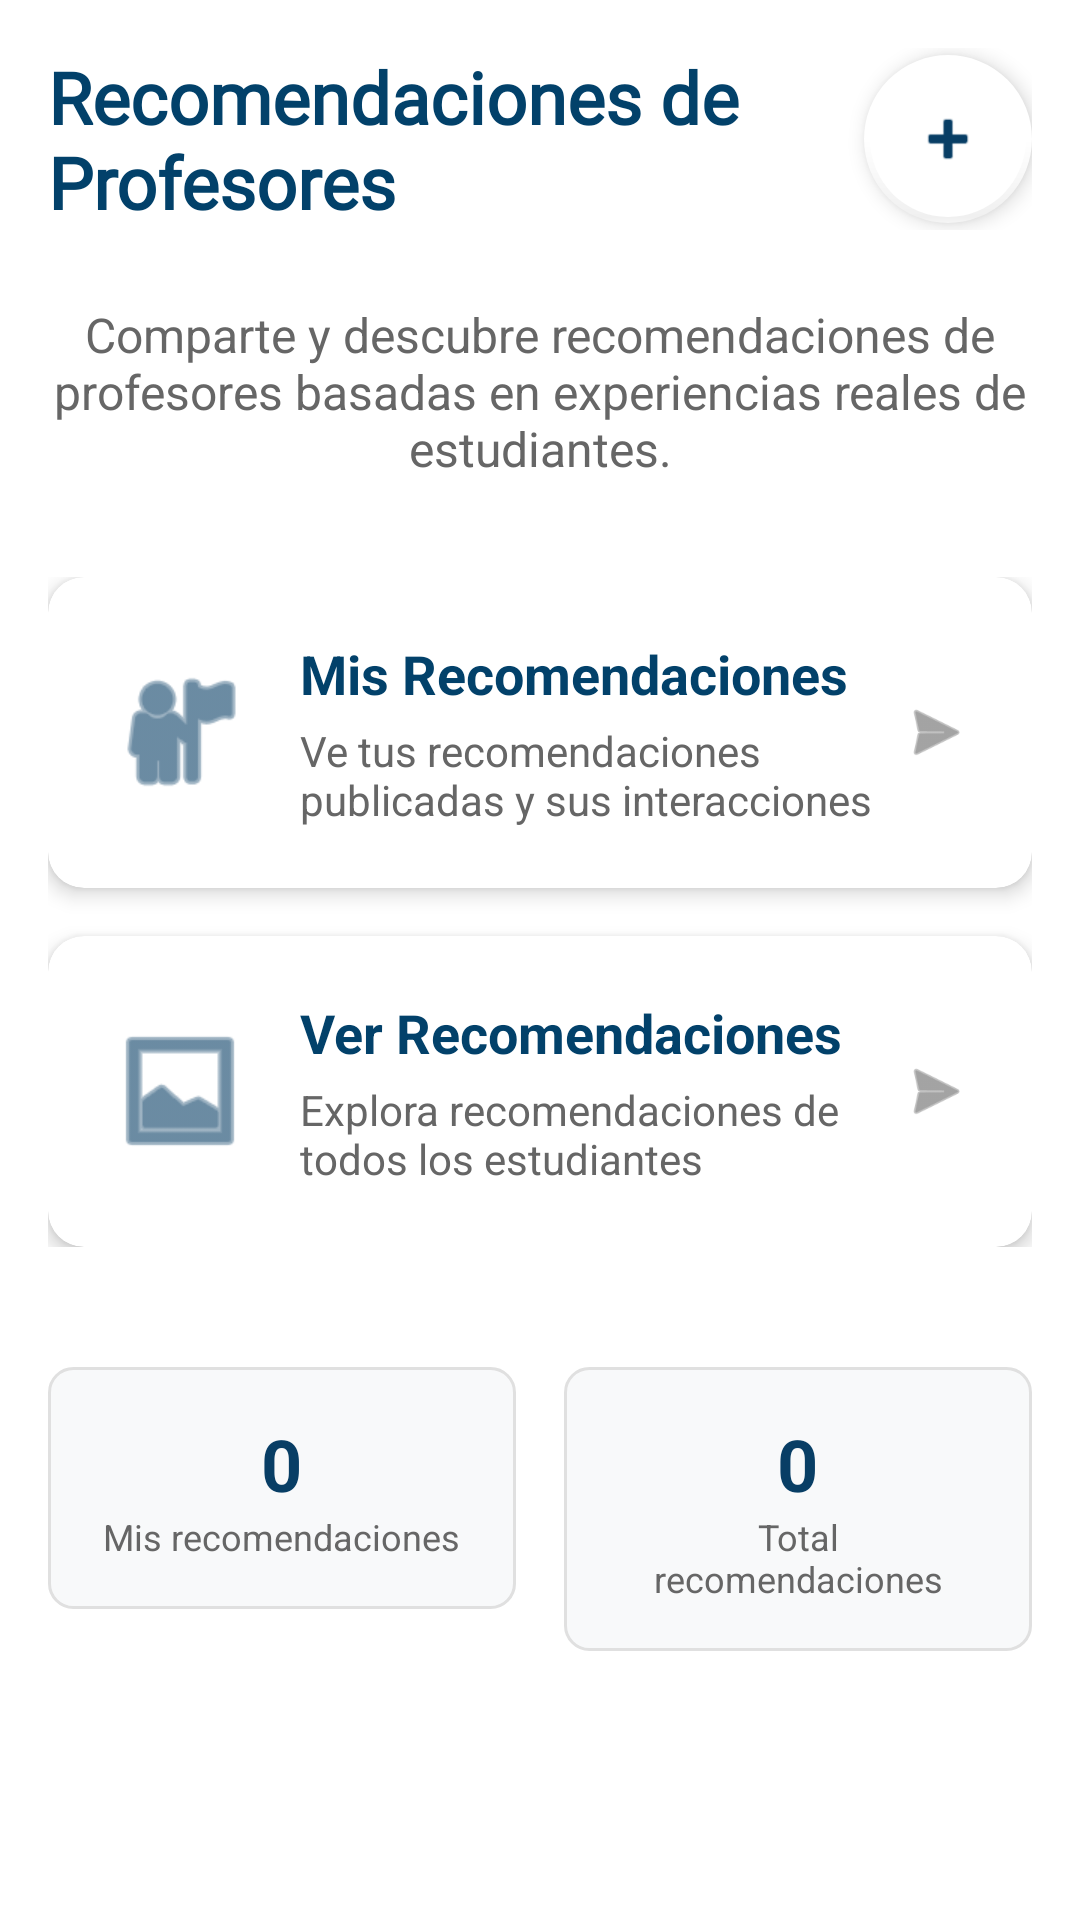

Screen size 1080px x 1920px. Icon name, then its box in pixels as (x1, y1, x2, y2):
gallery: (126, 1037, 234, 1145)
myplaces: (127, 678, 236, 786)
send: (914, 710, 960, 755), (914, 1069, 960, 1114)
